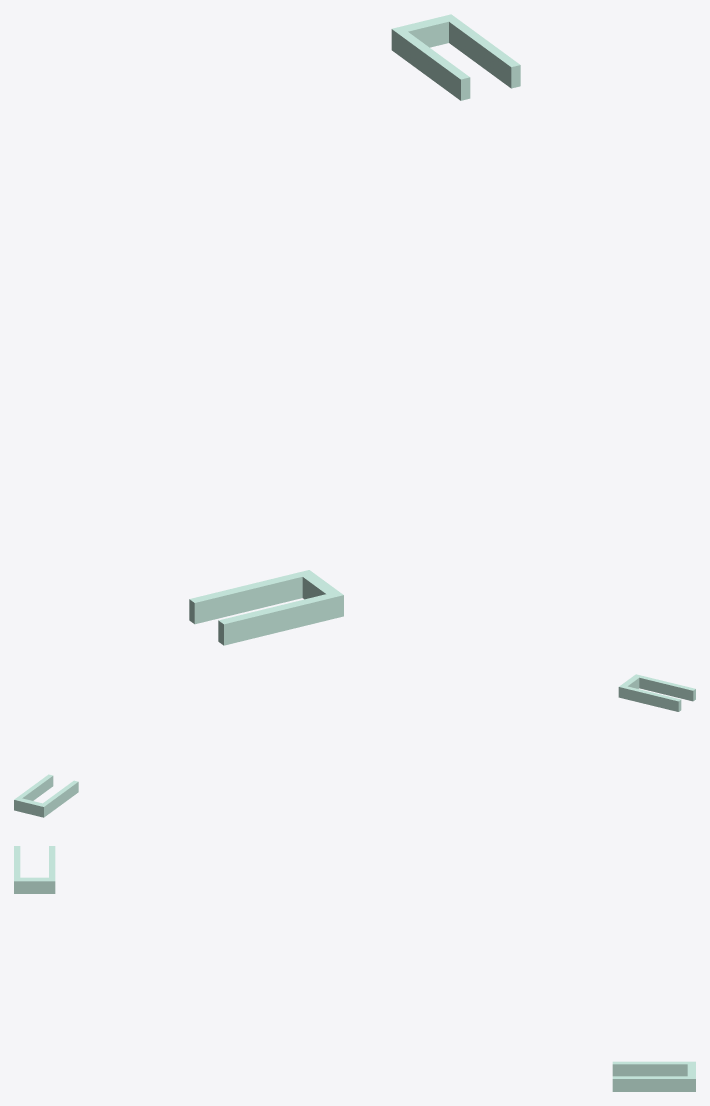
The model's file is DoorHandlesFixed.fbx.
3 views of the same model, one above another, from view 1: azimuth 30°, elevation 25°; view 2: azimuth 150°, elevation 25°; view 3: azimuth 270°, elevation 25° (orthographic). The views are drawn at different scales.
Visible parts, largest first — view 1: DoorHandle2, DoorHandle1; view 2: DoorHandle2, DoorHandle1; view 3: DoorHandle1, DoorHandle2.
Boxes of the visible parts, x1,y1,x2,y2 form: DoorHandle2: (189,570,343,645); DoorHandle1: (391,14,520,100); DoorHandle2: (618,674,695,711); DoorHandle1: (14,774,78,817); DoorHandle1: (612,1061,695,1091); DoorHandle2: (14,846,55,893).
Bounding box in the file's own units: 555 × 14.22 × 687.
